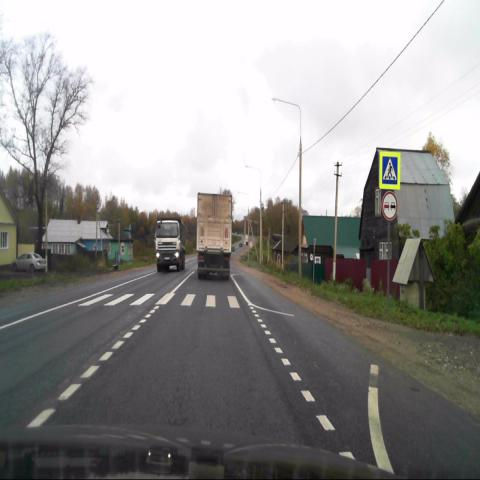3_20: (381, 191, 398, 220)
5_19_1: (380, 152, 400, 189)
